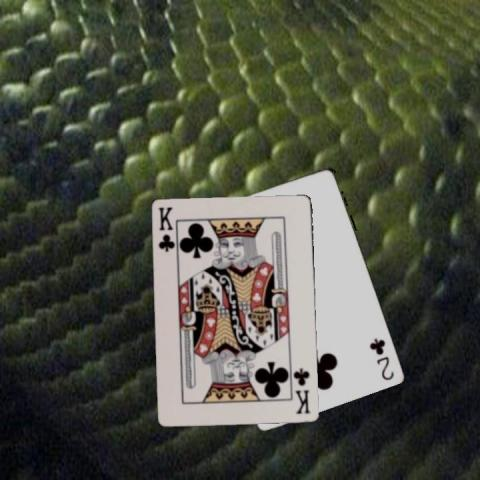2c: (370, 335, 395, 382)
Kc: (292, 365, 312, 416), (156, 205, 177, 253)
